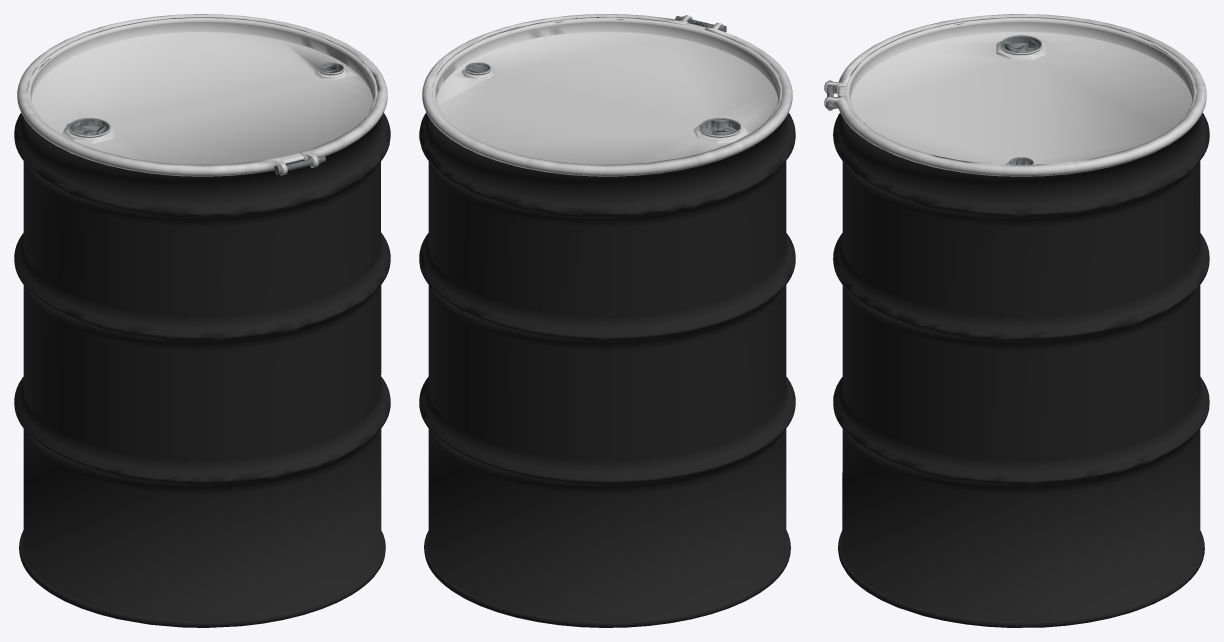
File: drum_steel.glb
3 renders of one model, left to right at view 1: azimuth 30°, elevation 25°; view 2: azimuth 150°, elevation 25°; view 3: azimuth 270°, elevation 25°, orthographic.
Parts seen in each view (by area): view 1: drum_steel_a01; view 2: drum_steel_a01; view 3: drum_steel_a01.
Boxes of the visible parts, <box> form: drum_steel_a01: <box>14,14,390,627</box>; drum_steel_a01: <box>419,14,795,627</box>; drum_steel_a01: <box>824,14,1209,627</box>.
Bounding box in the file's own units: 0.6417 × 0.8681 × 0.6569.
4 materials, 2 textured.
